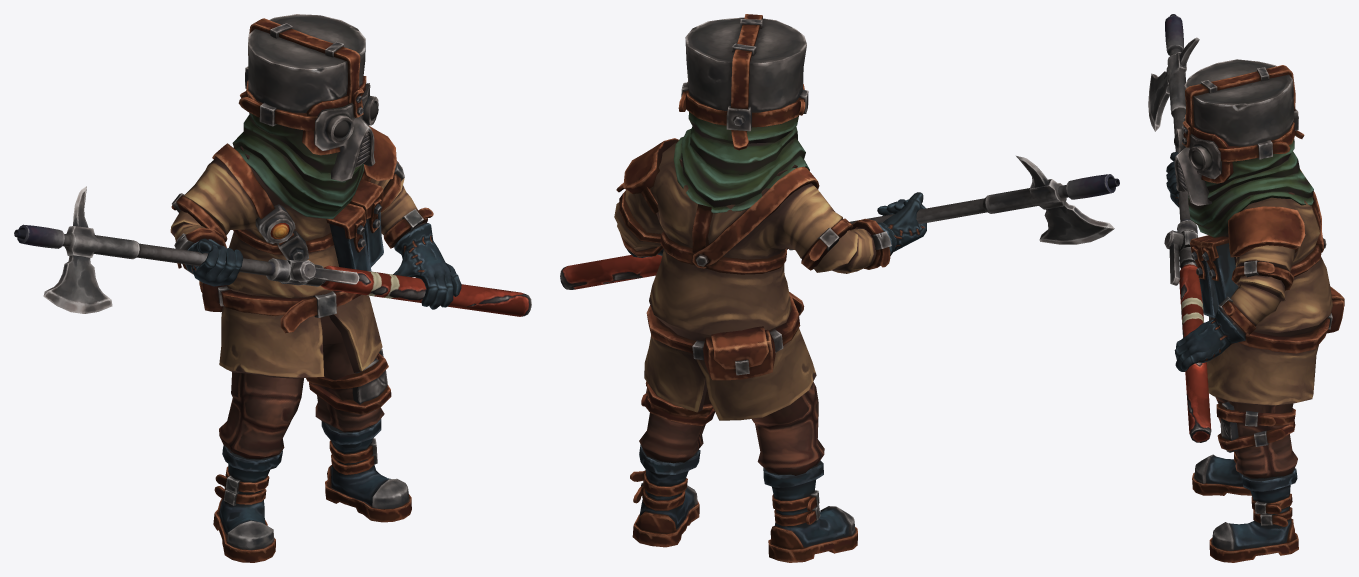
Rendered from character.obj.
3 views of the same model, side by side, from view 1: azimuth 30°, elevation 25°; view 2: azimuth 150°, elevation 25°; view 3: azimuth 270°, elevation 25° (orthographic). The views are drawn at different scales.
Parts seen in each view (by area): view 1: Avatar.001, Cylinder.000; view 2: Avatar.001, Cylinder.000; view 3: Avatar.001, Cylinder.000.
Boxes of the visible parts, left/top/right/bottom form: Avatar.001: left=170, top=14, right=461, bottom=562; Cylinder.000: left=14, top=186, right=531, bottom=316; Avatar.001: left=614, top=14, right=926, bottom=562; Cylinder.000: left=560, top=156, right=1119, bottom=289; Avatar.001: left=1166, top=59, right=1344, bottom=562; Cylinder.000: left=1148, top=14, right=1211, bottom=442.
Size of the model in its own units: 5.15 by 4.59 by 1.84.
Materials: 2 (2 with a texture image).
